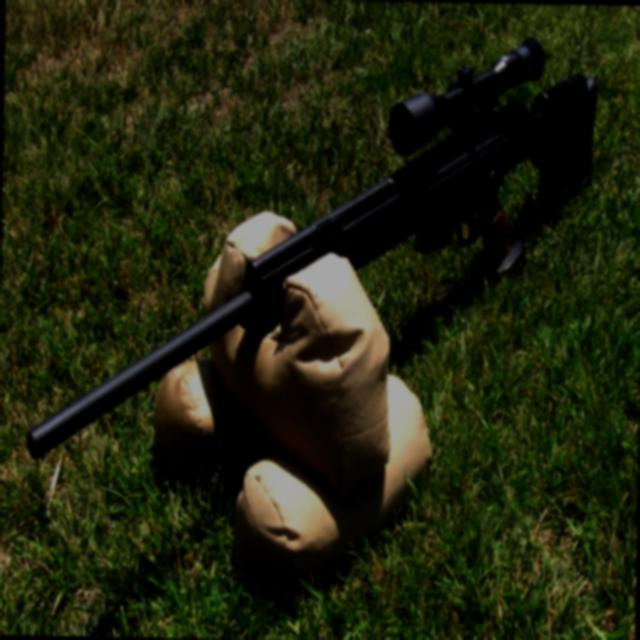rifle: (16, 25, 609, 483)
